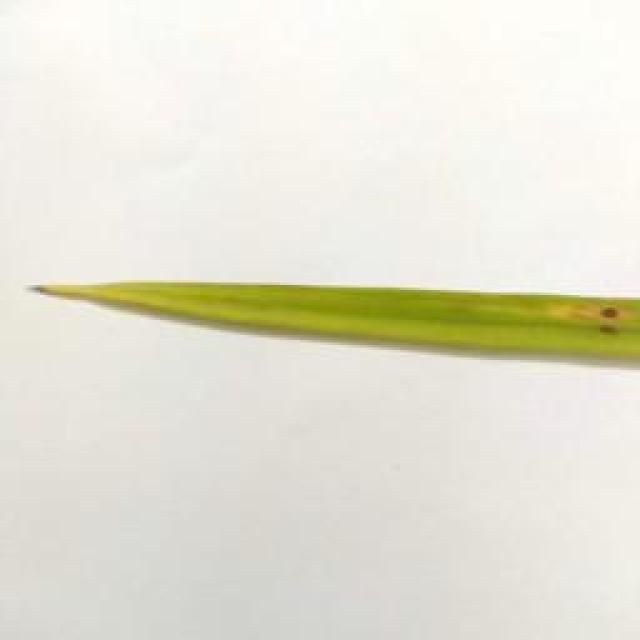Brown_Spot: (593, 320, 627, 342), (592, 303, 624, 321)
